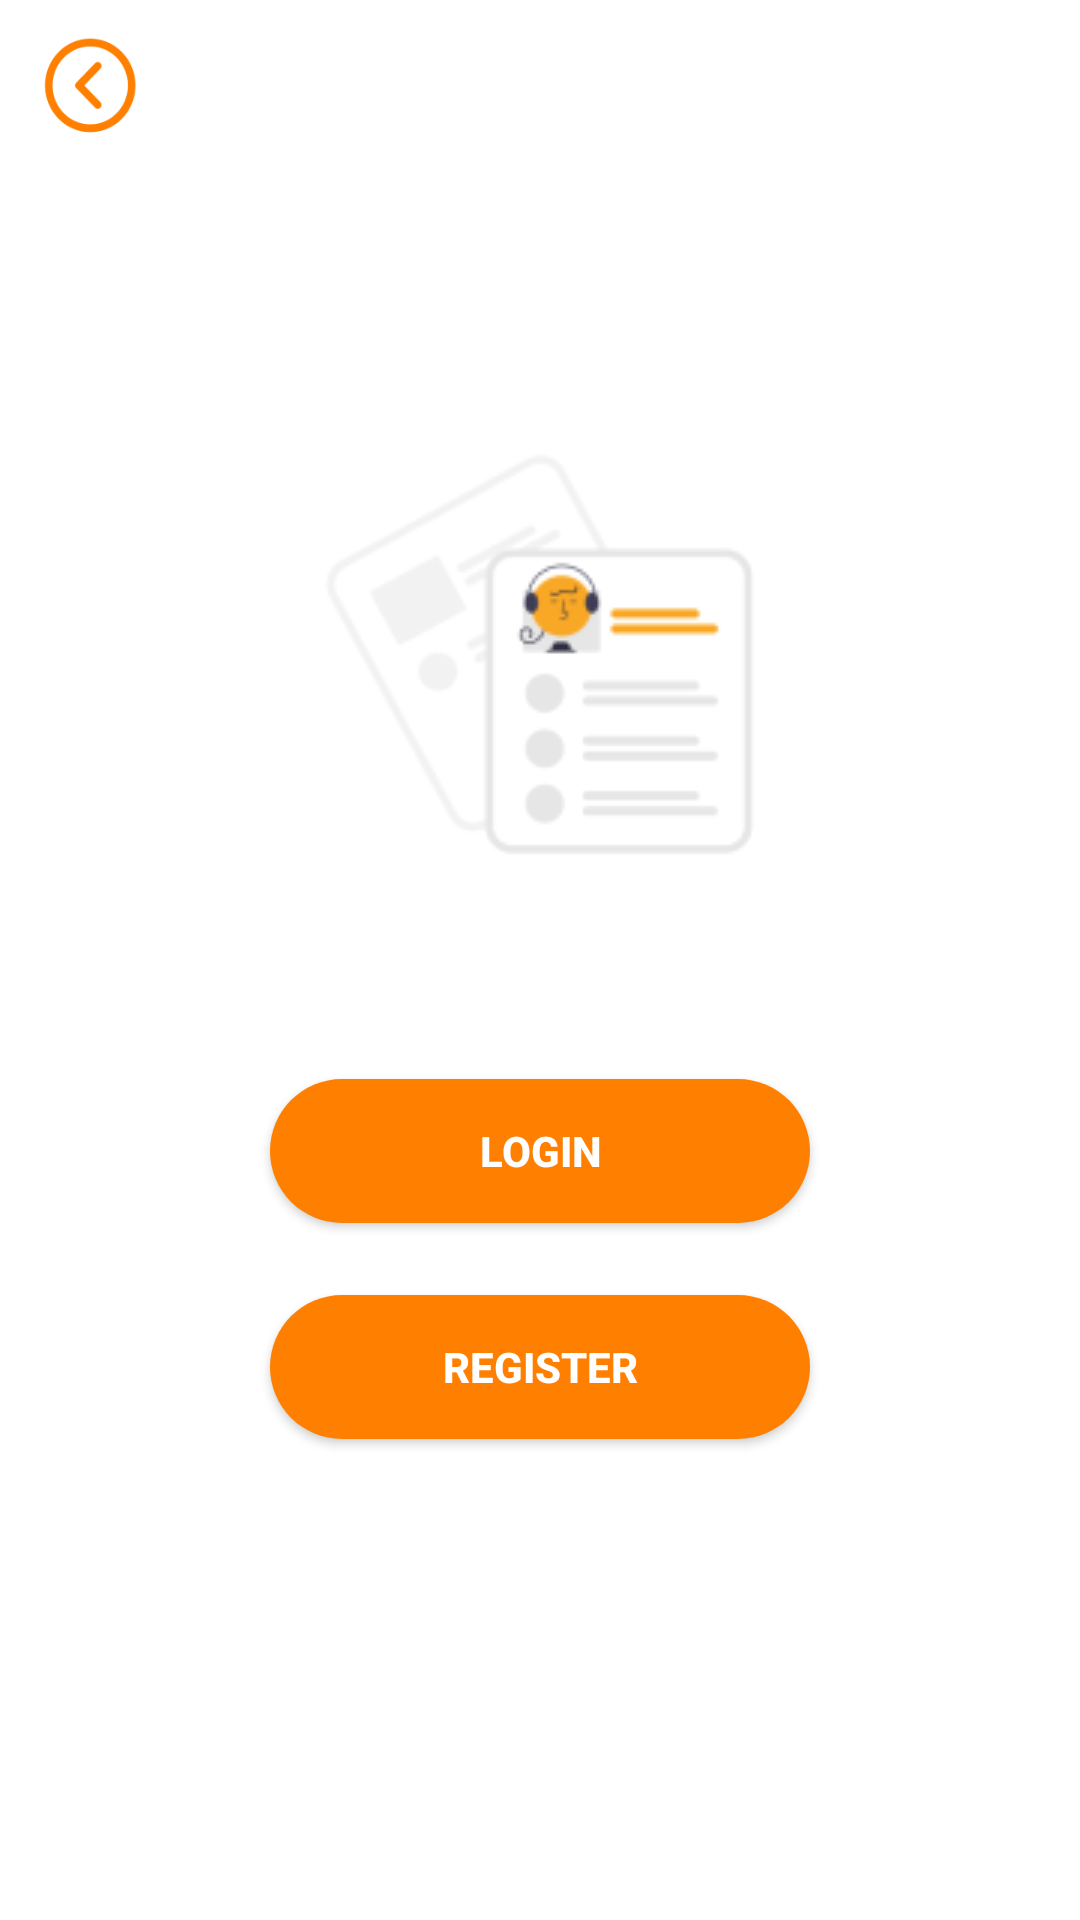

Icon bounding boxes for this 1080*1920 phone screenshot, format box(x1, y1, x2, y2):
back: box(44, 38, 136, 133)
